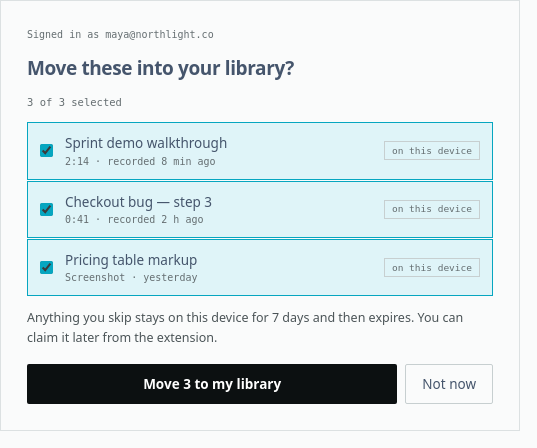
claim guest captures (A3) › lets individual captures be deselected
Click the checkbox labelled "Pricing table markup": x=46, y=267 [40,261,53,274]
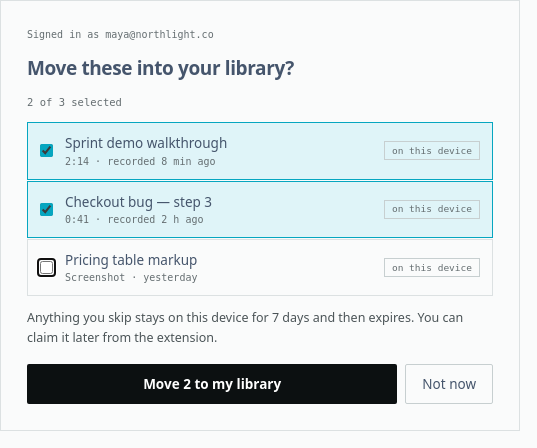
Check: the text "2 of 3 selected" is shown, box [27,96,122,108]
